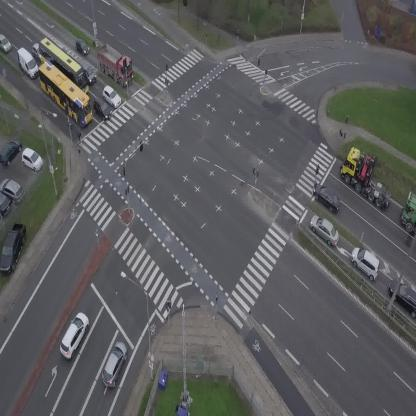bicycle: (75, 130, 83, 144)
bus: (30, 58, 102, 128), (31, 35, 98, 96)
car: (55, 310, 93, 360), (97, 339, 132, 390), (345, 243, 387, 282), (304, 211, 345, 247), (308, 180, 346, 215), (98, 83, 124, 110), (89, 95, 114, 123), (77, 57, 98, 84), (71, 36, 92, 58), (0, 33, 14, 54), (30, 43, 40, 62), (58, 43, 68, 52)
lorry: (332, 142, 408, 211), (88, 38, 142, 89), (11, 46, 43, 81), (401, 193, 416, 233)
